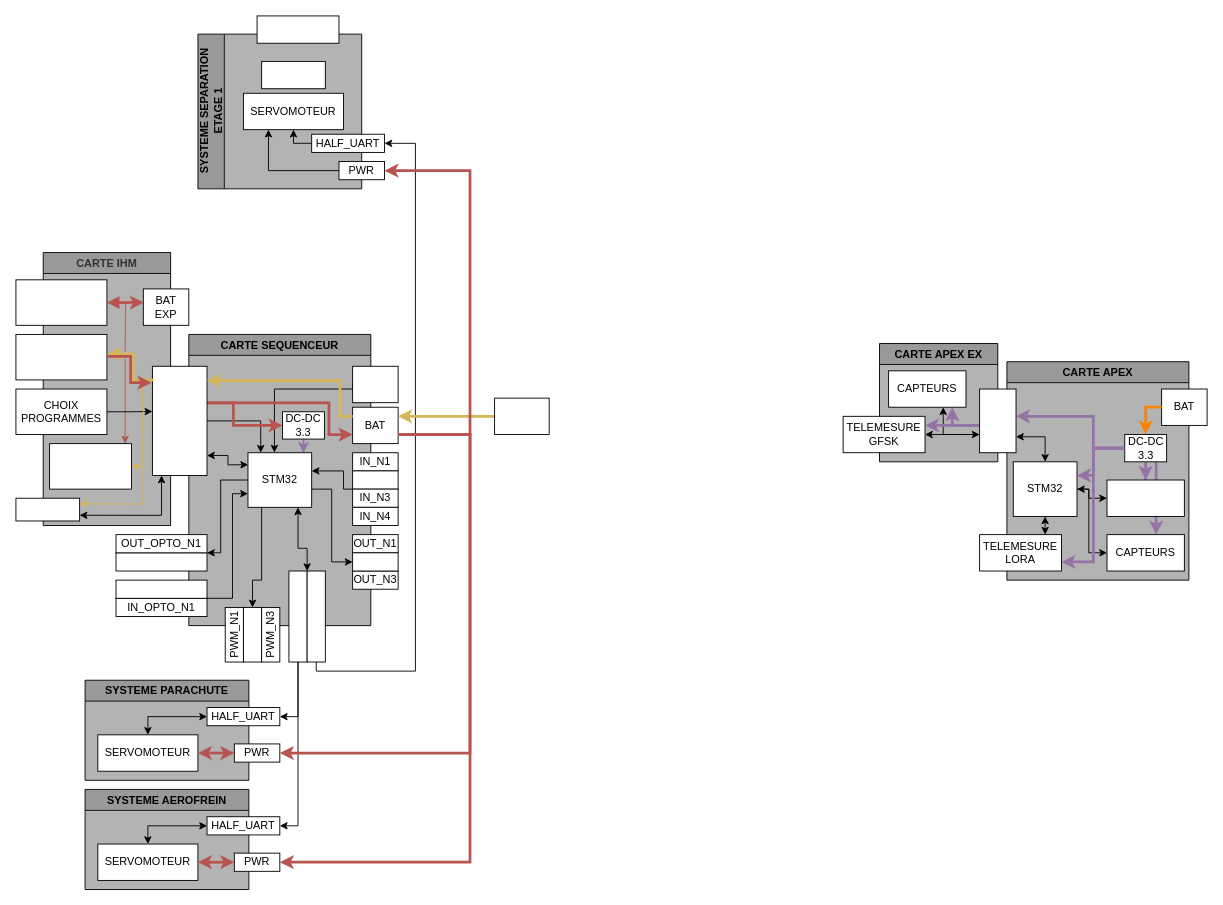
This 1223x905 diagram has some shape labels left out. The shapes that lost their labels are listed below. From the top down, each one's centre as x and y in pixels, then its label:
At point 297,29: "INTERFACE INTER-ETAGE".
At point 293,75: "CAMERA".
At point 61,302: "INTERRUPTEUR BAT EXP".
At point 61,357: "INTERRUPTEUR BAT SEQ".
At point 375,384: "USB".
At point 179,420: "INTERFACE IHM - SEQ".
At point 521,416: "BATTERIE 7.4V".
At point 997,420: "INTERFACE APEX".
At point 90,466: "INDICATEUR NIVEAU BATTERIE".
At point 375,479: "IN_N2".
At point 47,509: "ECRAN".
At point 1145,497: "MEMOIRE".
At point 161,561: "OUT_OPTO_N2".
At point 375,561: "OUT_N2".
At point 161,588: "IN_OPTO_N2".
At point 252,634: "PWM_N2".
At point 297,616: "HALF_UART_N1".
At point 315,616: "HALF_UART_N2".
